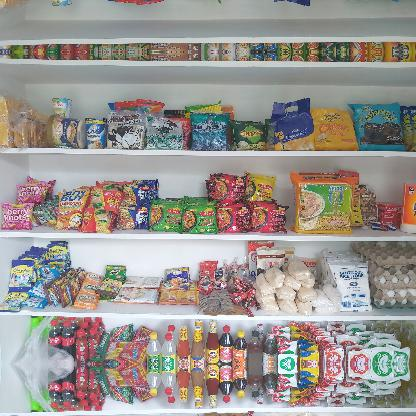Lady-s-Choice: (46, 115, 86, 149)
